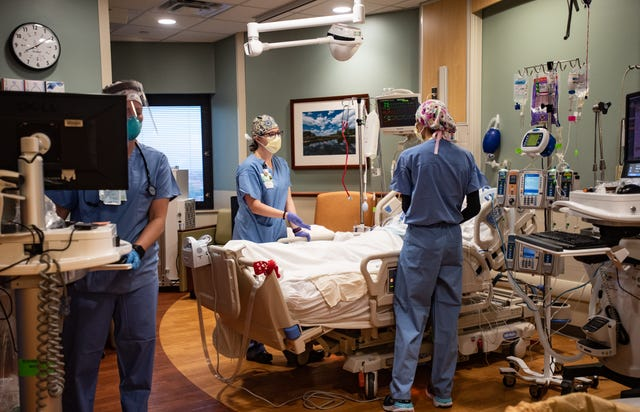bedrail: (360, 247, 491, 328), (474, 199, 536, 269), (375, 190, 402, 226)
bedside_monitor: (372, 86, 440, 136)
computer: (1, 90, 128, 192), (621, 92, 640, 182)
foot_board: (182, 234, 242, 322)
hospital_bed: (180, 187, 548, 400)
infusion_pump: (498, 169, 579, 207), (508, 232, 557, 274), (520, 127, 556, 157)
iv_pole: (517, 55, 588, 378)
keyboard: (516, 231, 611, 252)
mouse: (616, 182, 640, 194)
sequential_compression: (185, 236, 219, 269)
staff: (63, 80, 181, 412), (384, 100, 489, 412), (231, 113, 311, 365)
surgical_light: (327, 23, 367, 62)
ventilator: (556, 90, 640, 398)
